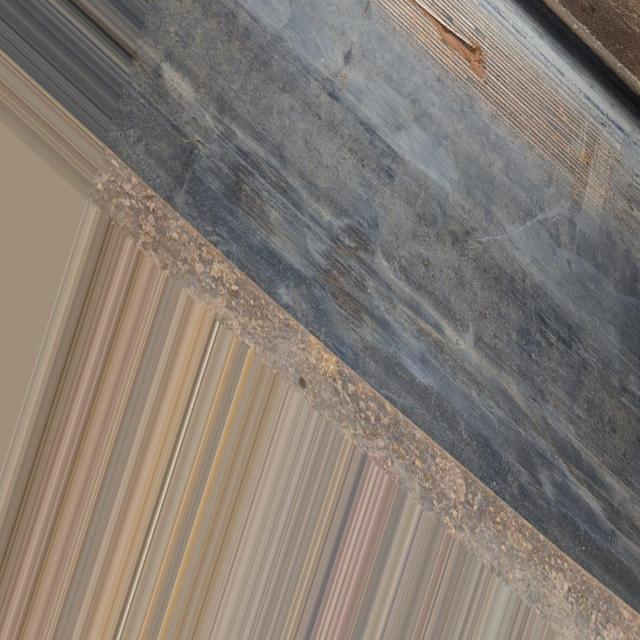Wear: (370, 0, 640, 261)
